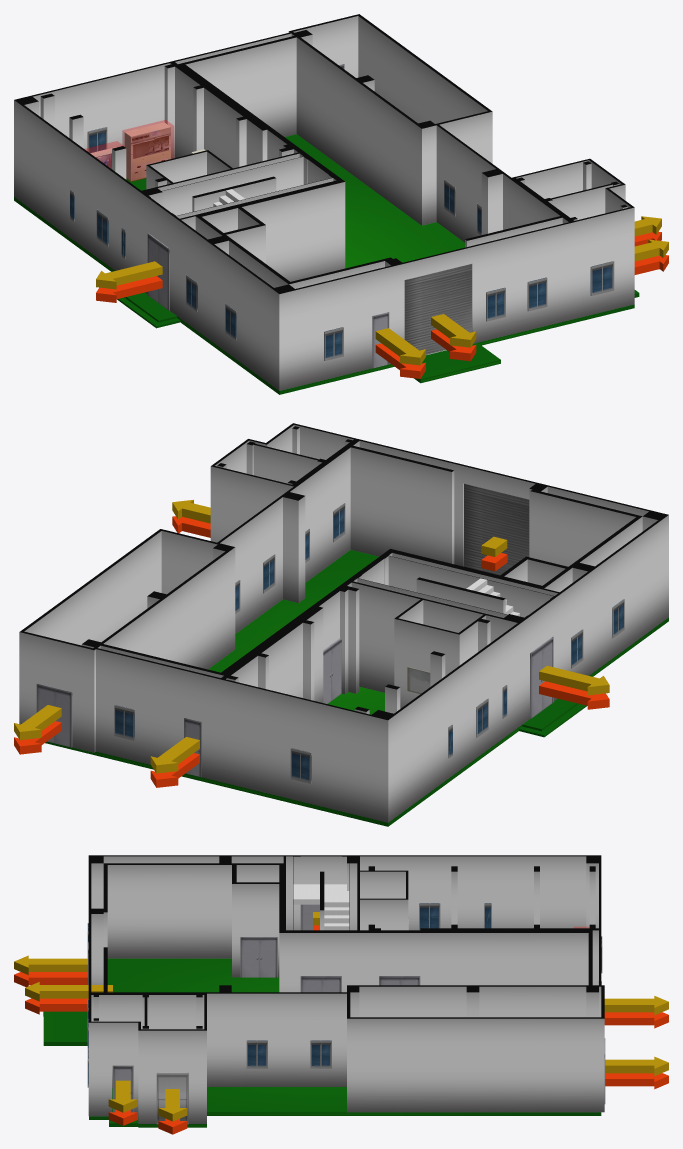
Rendered from soulbrain_T3-3-1F.glb.
3 views of the same model, one above another, from view 1: azimuth 30°, elevation 25°; view 2: azimuth 150°, elevation 25°; view 3: azimuth 270°, elevation 25° (orthographic). The views are drawn at different scales.
Visible parts, largest first — view 1: Box086, Line006, Box075, Box071, equipment-T3-3-1F-002, Box2731, Box063, arrow_Y_5_T3-3-1F, arrow_Y_4_T3-3-1F, arrow_R_5_T3-3-1F, arrow_Y_3_T3-3-1F, arrow_R_4_T3-3-1F (+2 smaller); view 2: Box086, Line006, Box071, Box063, Box075, arrow_Y_5_T3-3-1F, arrow_R_5_T3-3-1F, arrow_Y_6_T3-3-1F, arrow_Y_7_T3-3-1F, arrow_R_6_T3-3-1F, arrow_R_7_T3-3-1F, arrow_Y_1_T3-3-1F; view 3: Box086, Line006, Box063, Box075, StraightStair004, Box205, arrow_Y_3_T3-3-1F, arrow_Y_4_T3-3-1F, arrow_Y_6_T3-3-1F, arrow_Y_7_T3-3-1F, arrow_R_4_T3-3-1F, arrow_R_6_T3-3-1F (+4 smaller).
Part boxes in pixels (x1,y1,x2,y2): Box086: (14,14,634,390); Line006: (14,134,639,394); Box075: (70,127,614,360); Box071: (404,264,471,354); equipment-T3-3-1F-002: (122,120,173,181); Box2731: (124,122,170,181); Box063: (147,64,389,368); arrow_Y_5_T3-3-1F: (96,261,162,289); arrow_Y_4_T3-3-1F: (375,328,425,365); arrow_R_5_T3-3-1F: (96,276,162,302); arrow_Y_3_T3-3-1F: (431,314,476,347); arrow_R_4_T3-3-1F: (375,343,425,378); Box086: (19,423,668,822); Line006: (45,550,668,826); Box071: (464,483,529,575); Box063: (36,636,553,777); Box075: (114,503,624,783); arrow_Y_5_T3-3-1F: (539,665,609,695); arrow_R_5_T3-3-1F: (539,681,609,709); arrow_Y_6_T3-3-1F: (150,737,199,773); arrow_Y_7_T3-3-1F: (14,705,61,740); arrow_R_6_T3-3-1F: (150,753,199,787); arrow_R_7_T3-3-1F: (14,721,61,754); arrow_Y_1_T3-3-1F: (172,499,210,523); Box086: (88,855,604,1123); Line006: (43,958,601,1127); Box063: (88,904,605,1112); Box075: (87,903,602,1087); StraightStair004: (293,884,349,930); Box205: (156,1072,188,1124); arrow_Y_3_T3-3-1F: (25,982,112,1001); arrow_Y_4_T3-3-1F: (14,955,87,974); arrow_Y_6_T3-3-1F: (604,996,668,1015); arrow_Y_7_T3-3-1F: (605,1056,668,1075); arrow_R_4_T3-3-1F: (14,972,87,987); arrow_R_6_T3-3-1F: (604,1012,668,1028).
Bounding box in the file's own units: 26.46 × 5.2 × 31.74.
32 materials, 27 textured.
